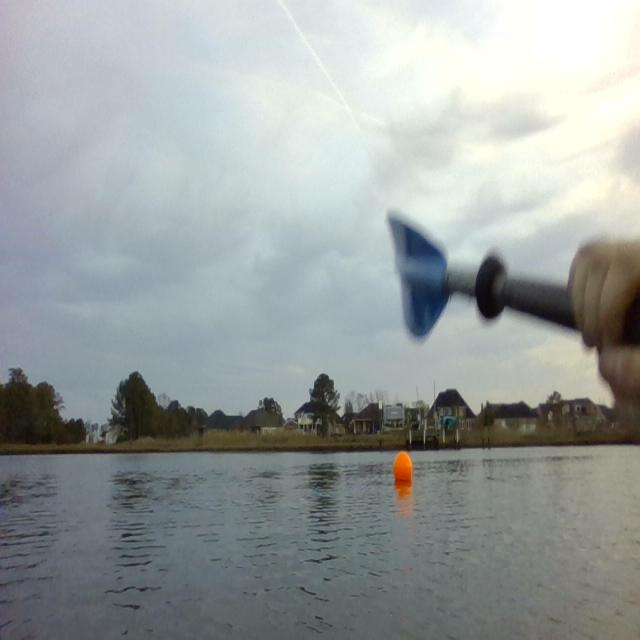Buoy: (392, 448, 413, 486)
